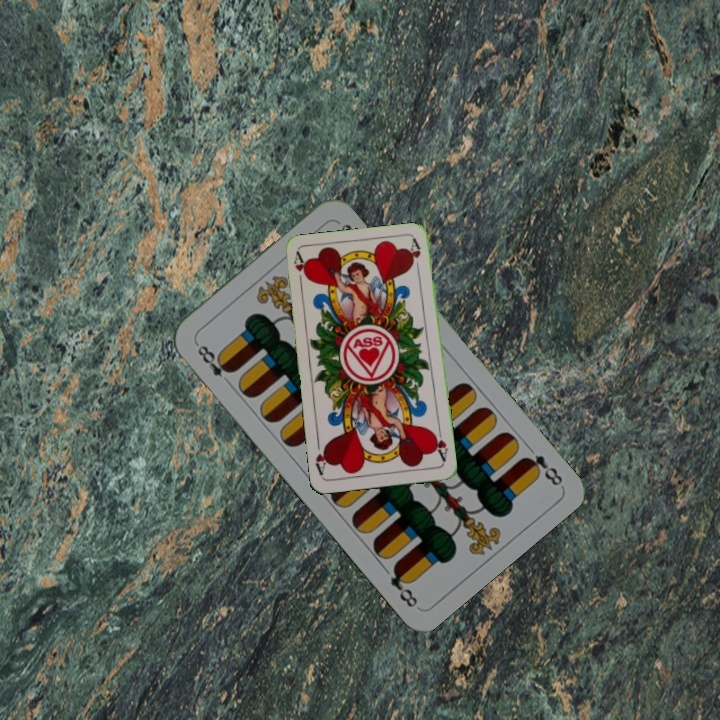E8: (519, 439, 565, 489), (191, 338, 236, 380)
HA: (429, 424, 451, 464), (290, 250, 311, 290)
